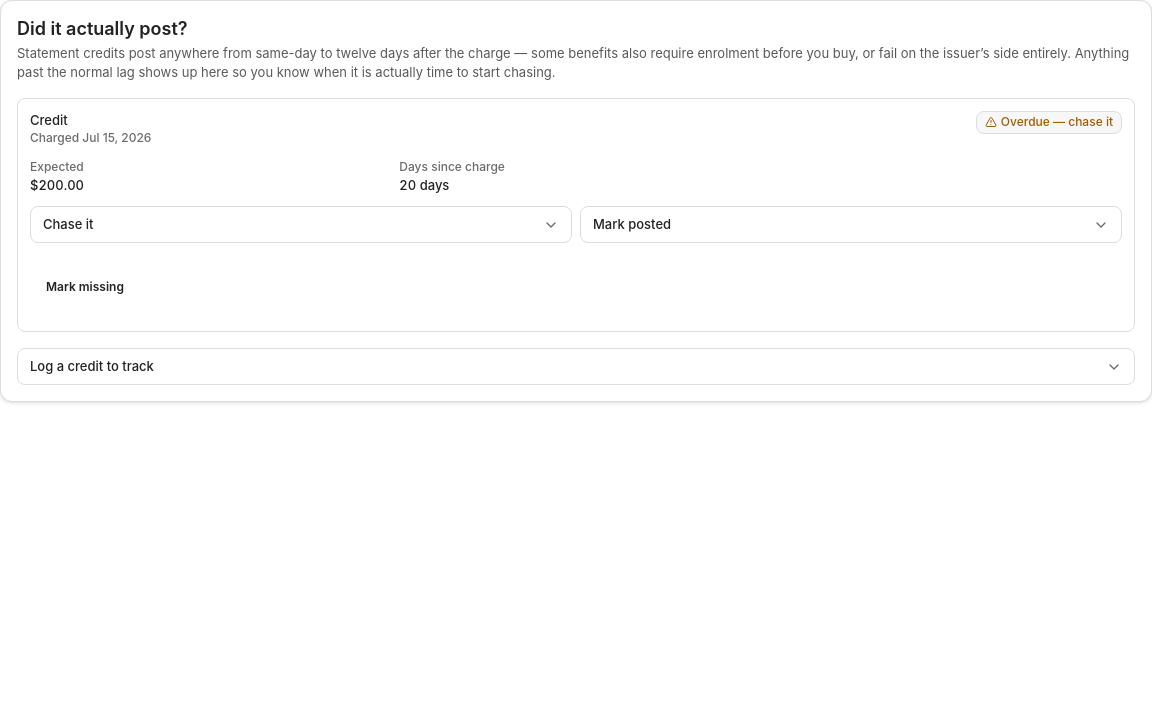
Test: CreditPostingTracker — chase it › names an unknown merchant honestly instead of leaving the fact blank
Click the button "Chase it" at coordinates (68, 224), box [31,207,571,242]
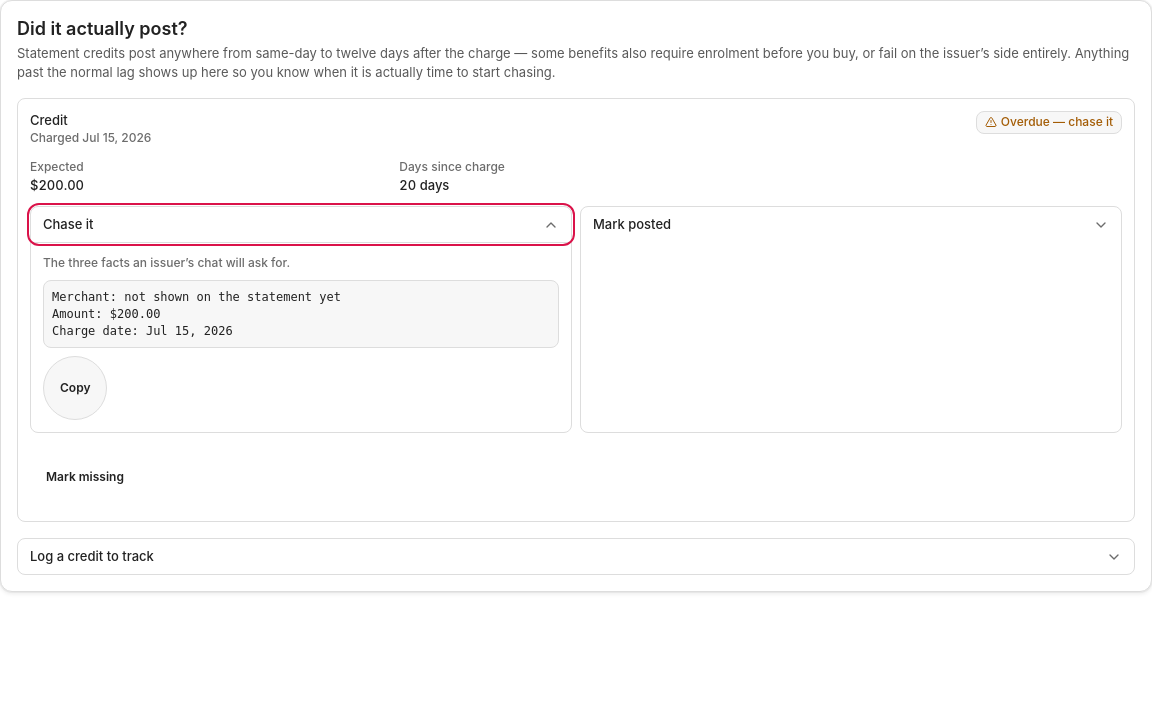
Expected: the text "Merchant: not shown on the statement yet" is shown, [52,290,341,338]
